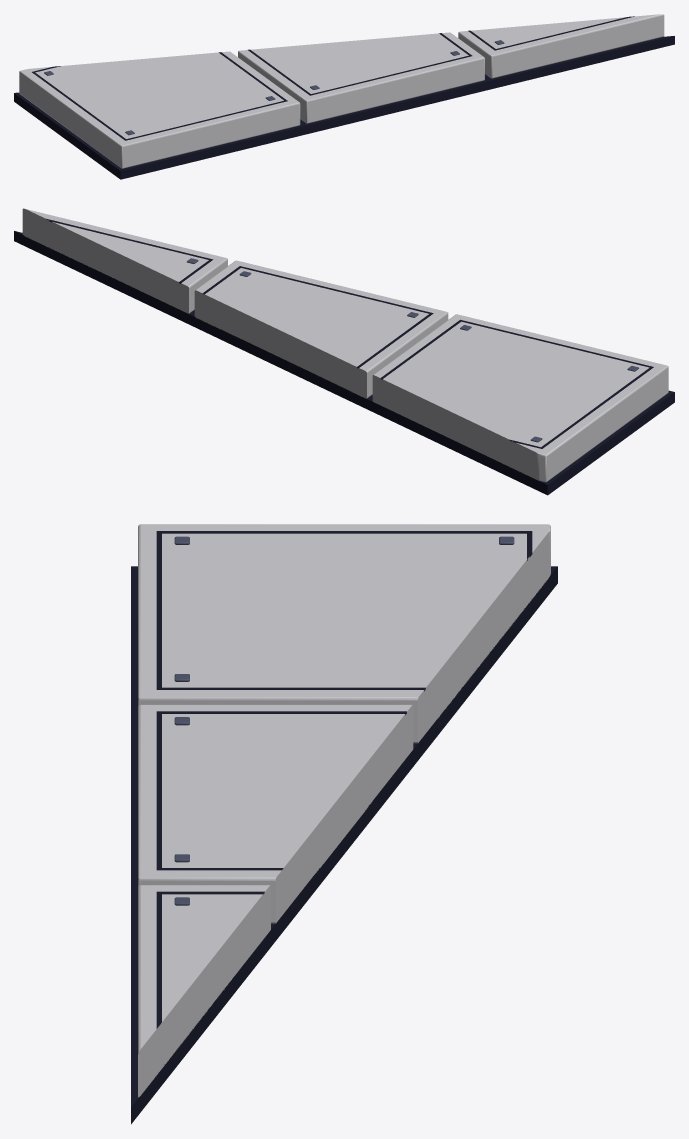
File: roof.slope3.light.glb
3 views of the same model, one above another, from view 1: azimuth 30°, elevation 25°; view 2: azimuth 150°, elevation 25°; view 3: azimuth 270°, elevation 25° (orthographic). The views are drawn at different scales.
Visible parts, largest first — view 1: GEO-roof.slope3.light; view 2: GEO-roof.slope3.light; view 3: GEO-roof.slope3.light.
Boxes of the visible parts, x1,y1,x2,y2 form: GEO-roof.slope3.light: (14, 14, 674, 179); GEO-roof.slope3.light: (14, 208, 674, 495); GEO-roof.slope3.light: (131, 524, 557, 1124).
Size of the model in its own units: 3 by 0.17 by 1.
